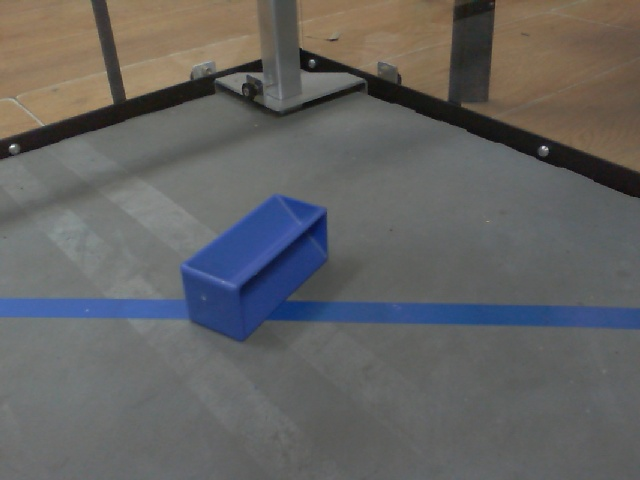BlueSample: (178, 187, 332, 348)
